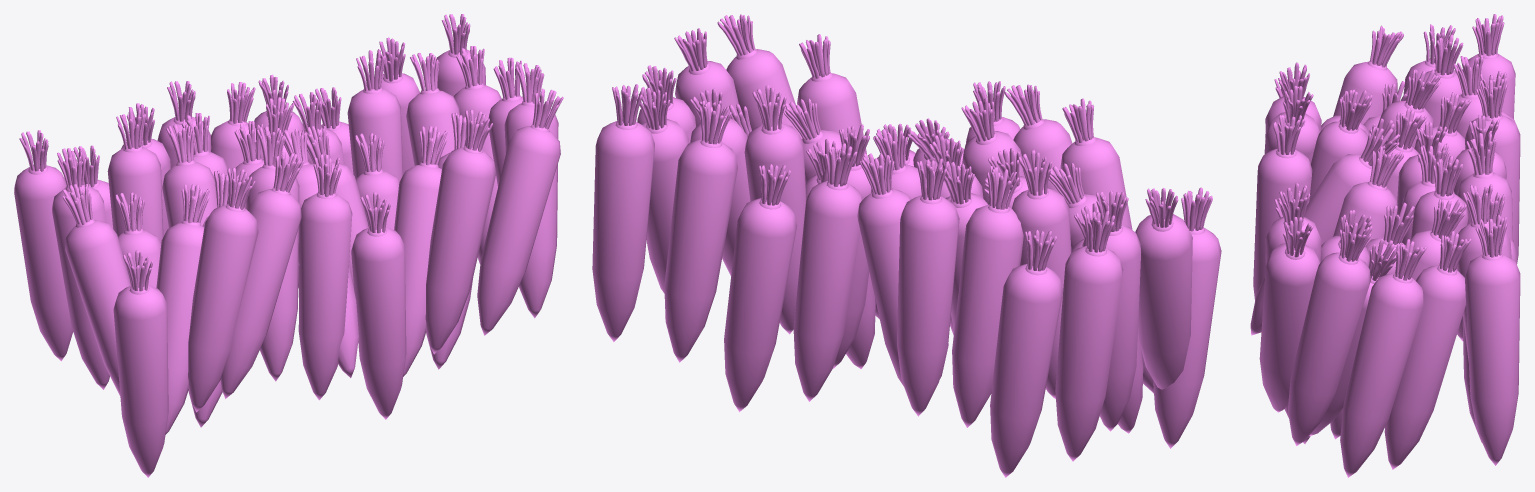
Rendered from Nabos_Bajo.FBX.
3 views of the same model, side by side, from view 1: azimuth 30°, elevation 25°; view 2: azimuth 150°, elevation 25°; view 3: azimuth 270°, elevation 25° (orthographic). The views are drawn at different scales.
Parts seen in each view (by area): view 1: Capsule109, Capsule108, Capsule087, Capsule089, Capsule093, Capsule114, Capsule088, Capsule103, Capsule099, Capsule092, Capsule113, Capsule111 (+26 smaller); view 2: Capsule122, Capsule097, Capsule118, Capsule124, Capsule104, Capsule125, Capsule103, Capsule101, Capsule099, Capsule093, Capsule102, Capsule117 (+22 smaller); view 3: Capsule118, Capsule119, Capsule111, Capsule127, Capsule109, Capsule089, Capsule091, Capsule090, Capsule097, Capsule120, Capsule099, Capsule124 (+21 smaller).
Part boxes in pixels (bbox=[...]): Capsule109: bbox=[477, 88, 563, 335]; Capsule108: bbox=[425, 110, 496, 354]; Capsule087: bbox=[188, 168, 258, 412]; Capsule089: bbox=[298, 154, 352, 400]; Capsule093: bbox=[113, 250, 168, 477]; Capsule114: bbox=[351, 192, 406, 419]; Capsule088: bbox=[220, 152, 304, 398]; Capsule103: bbox=[14, 130, 73, 361]; Capsule099: bbox=[62, 184, 130, 395]; Capsule092: bbox=[156, 184, 209, 434]; Capsule113: bbox=[394, 126, 447, 376]; Capsule111: bbox=[504, 63, 558, 318]; Capsule122: bbox=[664, 100, 737, 362]; Capsule097: bbox=[897, 158, 959, 416]; Capsule118: bbox=[592, 84, 654, 341]; Capsule124: bbox=[793, 143, 862, 401]; Capsule104: bbox=[990, 230, 1063, 477]; Capsule125: bbox=[724, 164, 797, 411]; Capsule103: bbox=[1055, 211, 1123, 461]; Capsule101: bbox=[952, 166, 1023, 427]; Capsule099: bbox=[1135, 188, 1192, 389]; Capsule093: bbox=[1153, 187, 1221, 448]; Capsule102: bbox=[857, 153, 910, 386]; Capsule117: bbox=[744, 85, 806, 334]; Capsule118: bbox=[1465, 215, 1520, 465]; Capsule119: bbox=[1340, 239, 1427, 477]; Capsule111: bbox=[1288, 221, 1372, 445]; Capsule127: bbox=[1384, 231, 1471, 469]; Capsule109: bbox=[1259, 216, 1319, 412]; Capsule089: bbox=[1253, 115, 1312, 300]; Capsule091: bbox=[1250, 126, 1399, 335]; Capsule090: bbox=[1309, 90, 1372, 201]; Capsule097: bbox=[1465, 76, 1520, 263]; Capsule120: bbox=[1333, 146, 1403, 245]; Capsule099: bbox=[1333, 25, 1403, 124]; Capsule124: bbox=[1457, 132, 1513, 241].
Size of the model in its own units: 158 by 94.57 by 73.78.
